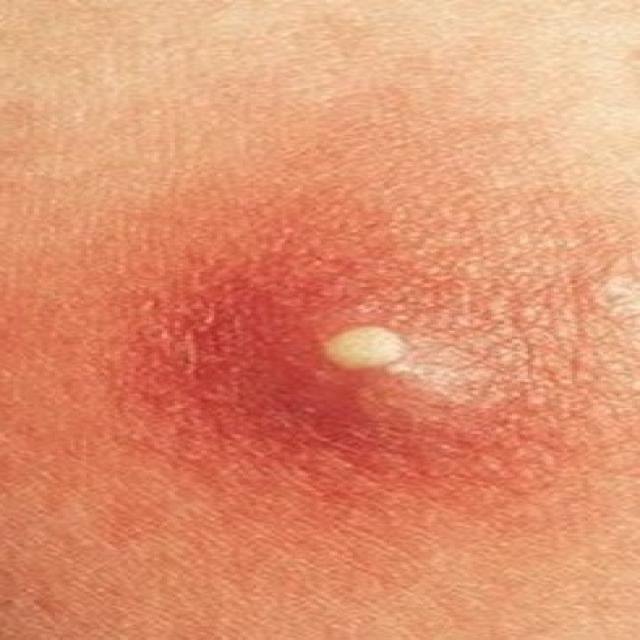pustule: (239, 274, 614, 451)
